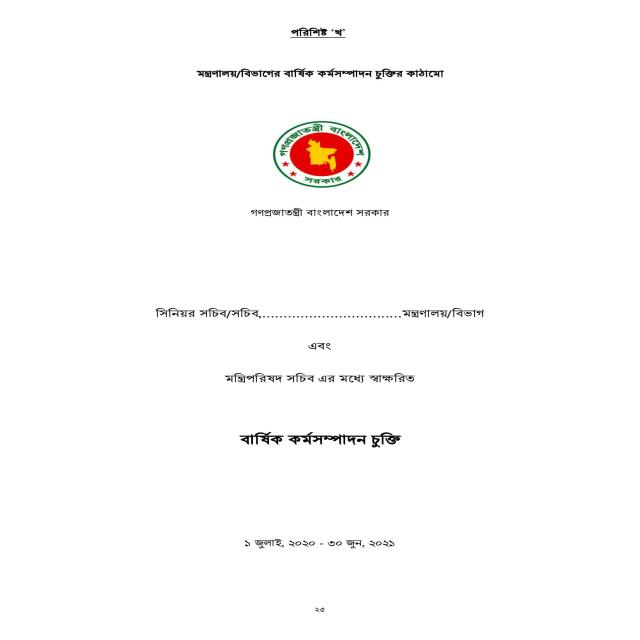image: (272, 121, 371, 188)
page number: (313, 607, 327, 613)
text: (151, 306, 486, 384), (237, 431, 403, 449), (242, 537, 396, 549), (250, 207, 391, 218), (289, 27, 347, 39)
title: (195, 67, 446, 80)
